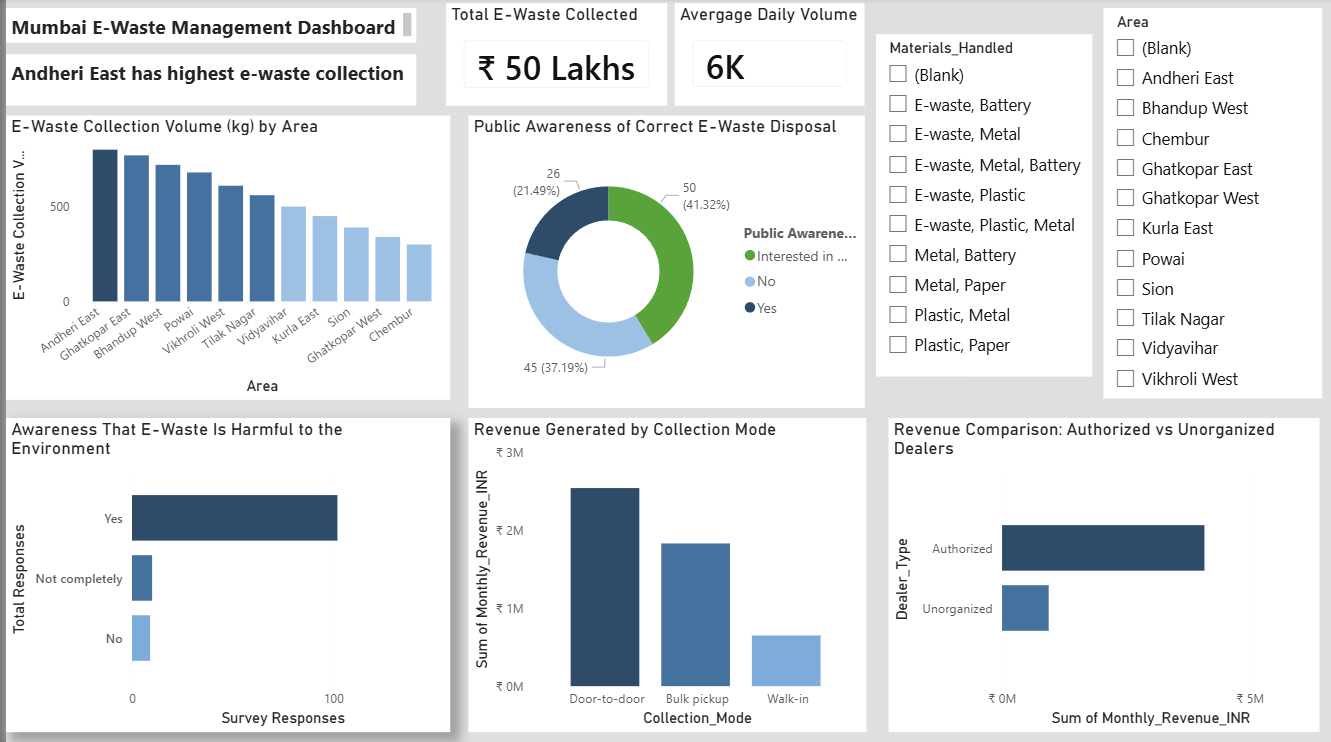

Layout of this report page (visuals, bound fields, positions):
{"tool":"powerbi","page":{"name":"Mumbai E-Waste Management Dashboard","canvas":[1280,720],"ordinal":0},"visuals":[{"type":"clusteredColumnChart","fields":{"Y":["Sum(Scrap_Dealers.Avg_Daily_Volume_kg)"],"Category":["Scrap_Dealers.Area"]},"box":[0,113,428.4,274.4],"z":0},{"type":"clusteredBarChart","title":"Awareness That E-Waste Is Harmful to the Environment","fields":{"Category":["Survey_Responses.Are_you_aware_that_e-waste_is_harmful_to_the_environment?"],"Y":["CountNonNull(Survey_Responses.Timestamp)"]},"box":[0,404.8,428.4,303],"z":1000},{"type":"clusteredColumnChart","title":"Revenue Generated by Collection Mode","fields":{"Category":["Scrap_Dealers.Collection_Mode"],"Y":["Sum(Scrap_Dealers.Monthly_Revenue_INR)"]},"box":[446.4,405.4,383.6,302.8],"z":2000},{"type":"clusteredBarChart","title":"Revenue Comparison: Authorized vs Unorganized Dealers","fields":{"Category":["Scrap_Dealers.Dealer_Type"],"Y":["Sum(Scrap_Dealers.Monthly_Revenue_INR)"]},"box":[851.8,404.8,416,303],"z":3000},{"type":"donutChart","title":"Public Awareness of Correct E-Waste Disposal","fields":{"Category":["Survey_Responses.Do_you_know_correct_way_dispose_of_e-waste?"],"Y":["CountNonNull(Survey_Responses.Response_ID)"]},"box":[446.4,113.4,382.4,282.3],"z":4000},{"type":"cardVisual","title":"Total E-Waste Collected","fields":{"Data":["Scrap_Dealers.Revenue (Lakhs)"]},"box":[424.7,5,213.6,99.3],"z":5000},{"type":"slicer","fields":{"Values":["Scrap_Dealers.Materials_Handled"]},"box":[839.7,35,208.7,330.6],"z":6000},{"type":"slicer","fields":{"Values":["Scrap_Dealers.Area"]},"box":[1059.3,9.7,211.1,376.4],"z":7000},{"type":"cardVisual","title":"Avergage Daily Volume","fields":{"Data":["Sum(Scrap_Dealers.Avg_Daily_Volume_kg)"]},"box":[646.7,4.8,183.4,98.9],"z":8000},{"type":"textbox","box":[0,9.9,396.1,33.5],"z":9000},{"type":"textbox","box":[0,54.6,396.1,49.7],"z":10000}]}

Visuals, with their boxes in screenshot pixels (x1, y1, x2, y2), scaled from the page's 1280x720 canvas onto the 1331x742 screenshot:
clusteredColumnChart - Sum(Scrap_Dealers.Avg_Daily_Volume_kg) x Scrap_Dealers.Area: [0, 116, 445, 399]
"Awareness That E-Waste Is Harmful to the Environment" clusteredBarChart: [0, 417, 445, 729]
"Revenue Generated by Collection Mode" clusteredColumnChart: [464, 418, 863, 730]
"Revenue Comparison: Authorized vs Unorganized Dealers" clusteredBarChart: [886, 417, 1318, 729]
"Public Awareness of Correct E-Waste Disposal" donutChart: [464, 117, 862, 408]
"Total E-Waste Collected" cardVisual: [442, 5, 664, 107]
slicer - Scrap_Dealers.Materials_Handled: [873, 36, 1090, 377]
slicer - Scrap_Dealers.Area: [1102, 10, 1321, 398]
"Avergage Daily Volume" cardVisual: [672, 5, 863, 107]
textbox: [0, 10, 412, 45]
textbox: [0, 56, 412, 107]
